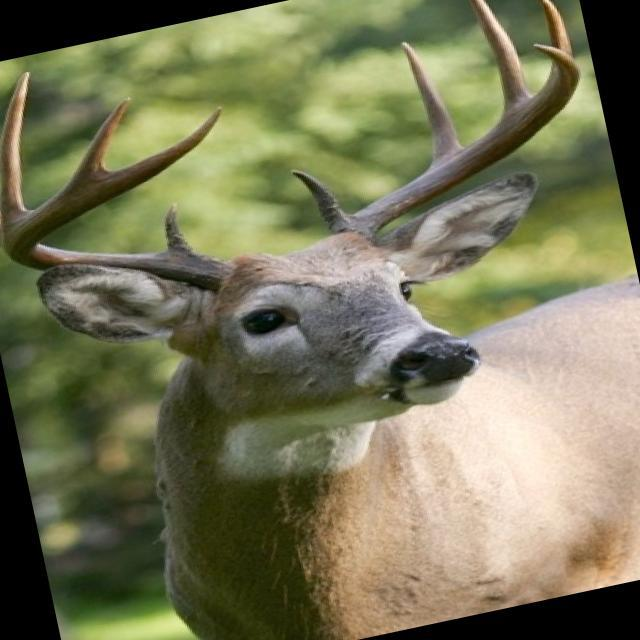L-F: (328, 42, 581, 240)
L-G1: (292, 170, 352, 233)
L-G2: (402, 41, 462, 167)
L-G3: (470, 0, 532, 112)
R-F: (1, 105, 230, 289)
R-G1: (164, 204, 193, 254)
R-G3: (0, 71, 32, 225)
R-G4: (66, 97, 129, 184)
